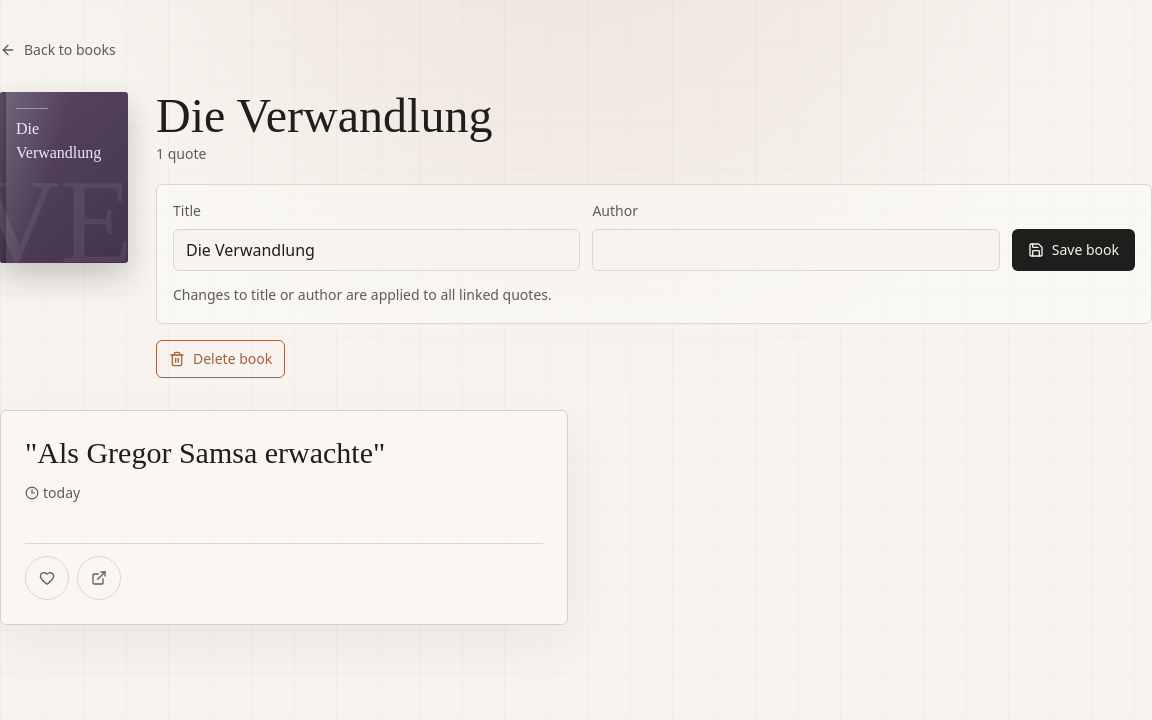
Scenario: BookDetailPage › zeigt nur die Zitate des Buchs und löscht das Buch nach Bestätigung
This screenshot has width=1152, height=720.
expect the text "\"Als Gregor Samsa erwachte\"" is shown: met, box [25,436,385,469]
Click the button "Delete book" at (221, 359), box [156,340,285,378]
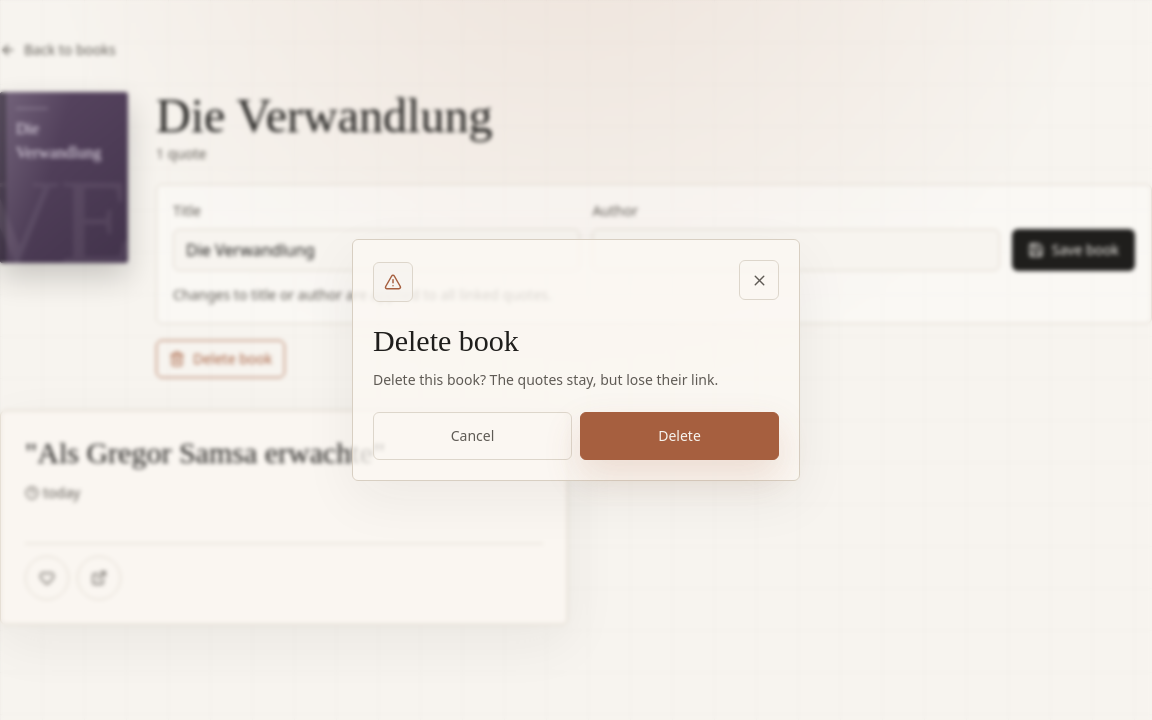
Click the button "Delete" at (680, 436), box [580,412,779,460]
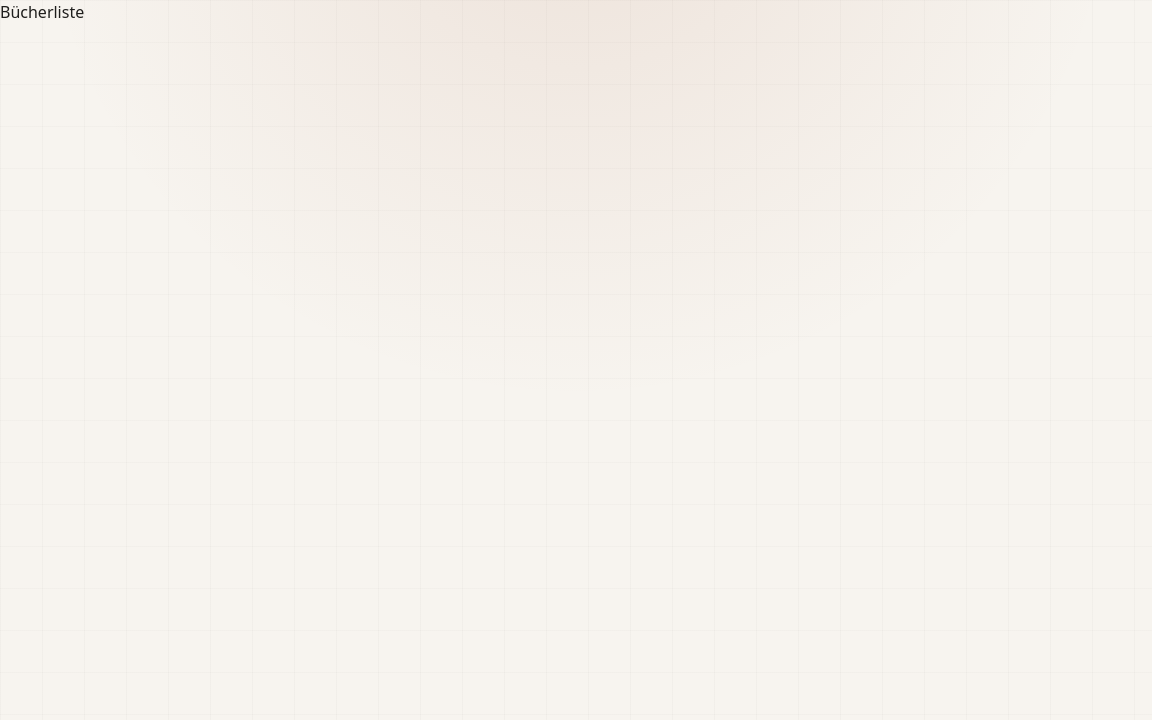
expect the text "Bücherliste" is shown: met, box [0,1,84,23]
